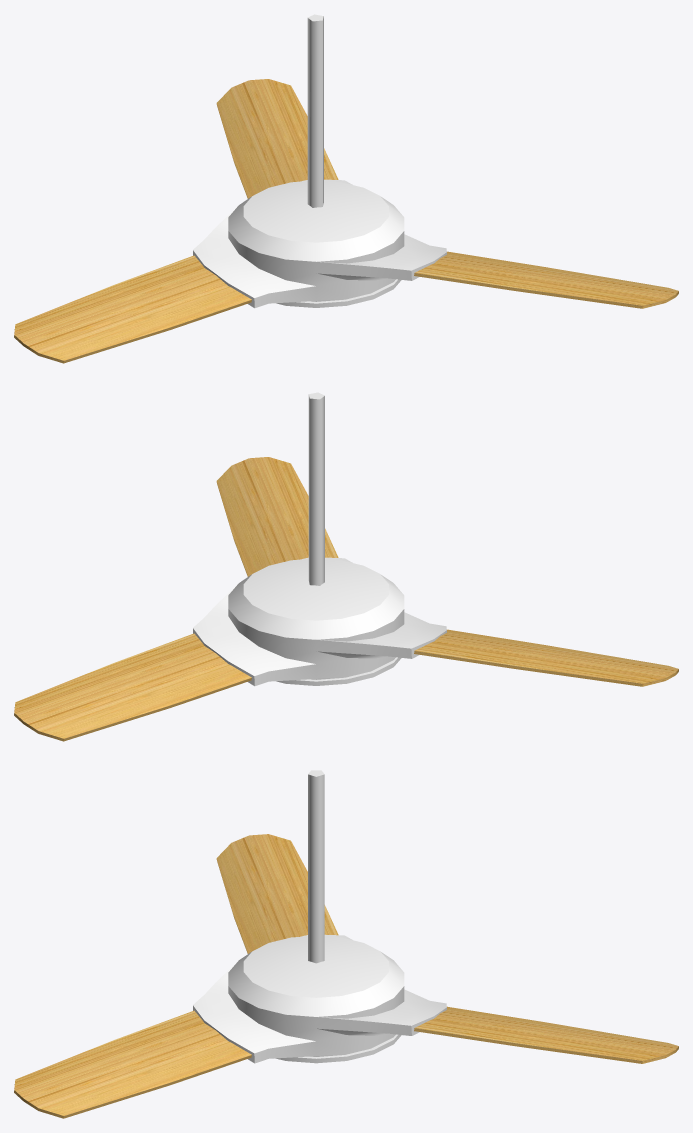
Rendered from Oriental Fan.FBX.
3 views of the same model, one above another, from view 1: azimuth 30°, elevation 25°; view 2: azimuth 150°, elevation 25°; view 3: azimuth 270°, elevation 25° (orthographic).
Visible parts, largest first — view 1: Oriental_Ventilador; view 2: Oriental_Ventilador; view 3: Oriental_Ventilador.
Part boxes in pixels (x1,y1,x2,y2): Oriental_Ventilador: (14, 14, 678, 363); Oriental_Ventilador: (14, 392, 678, 741); Oriental_Ventilador: (14, 770, 678, 1118).
Size of the model in its own units: 205 by 93.41 by 213.
Materials: 2 (1 with a texture image).
